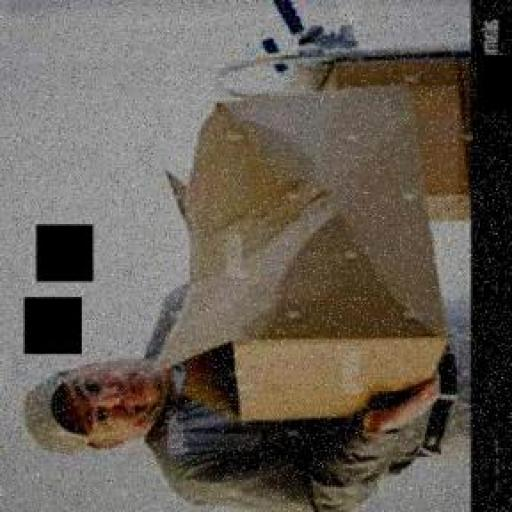box: (170, 86, 458, 428)
